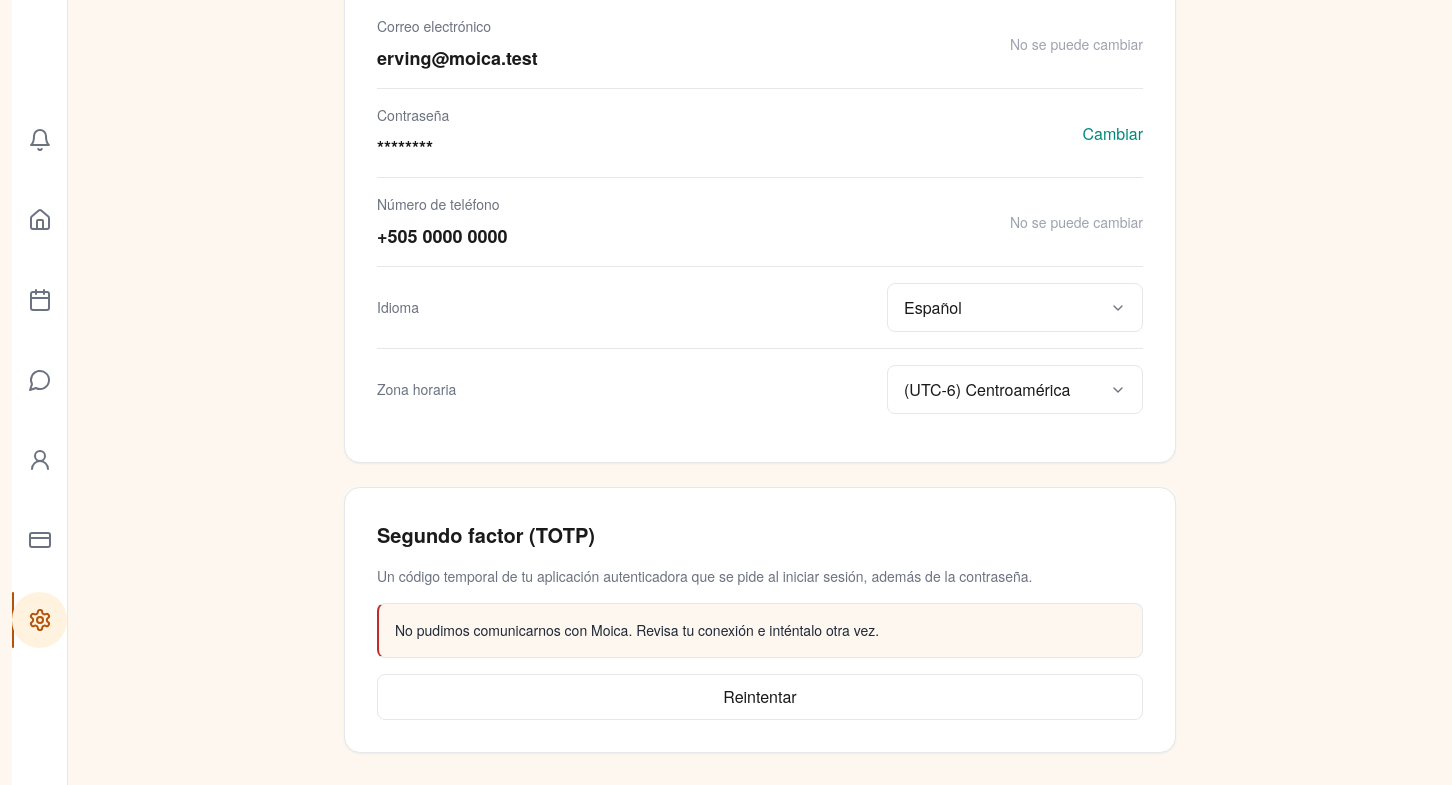
seguridad de la cuenta › segundo factor › permite reintentar cuando no se pudo consultar su estado
The width and height of the screenshot is (1452, 785).
(page scrolled)
Check: the message shows "No pudimos comunicarnos con Moica.", box [395,620,879,640]
Click the button "Reintentar" at (760, 697), box [377,674,1143,720]
(page scrolled)
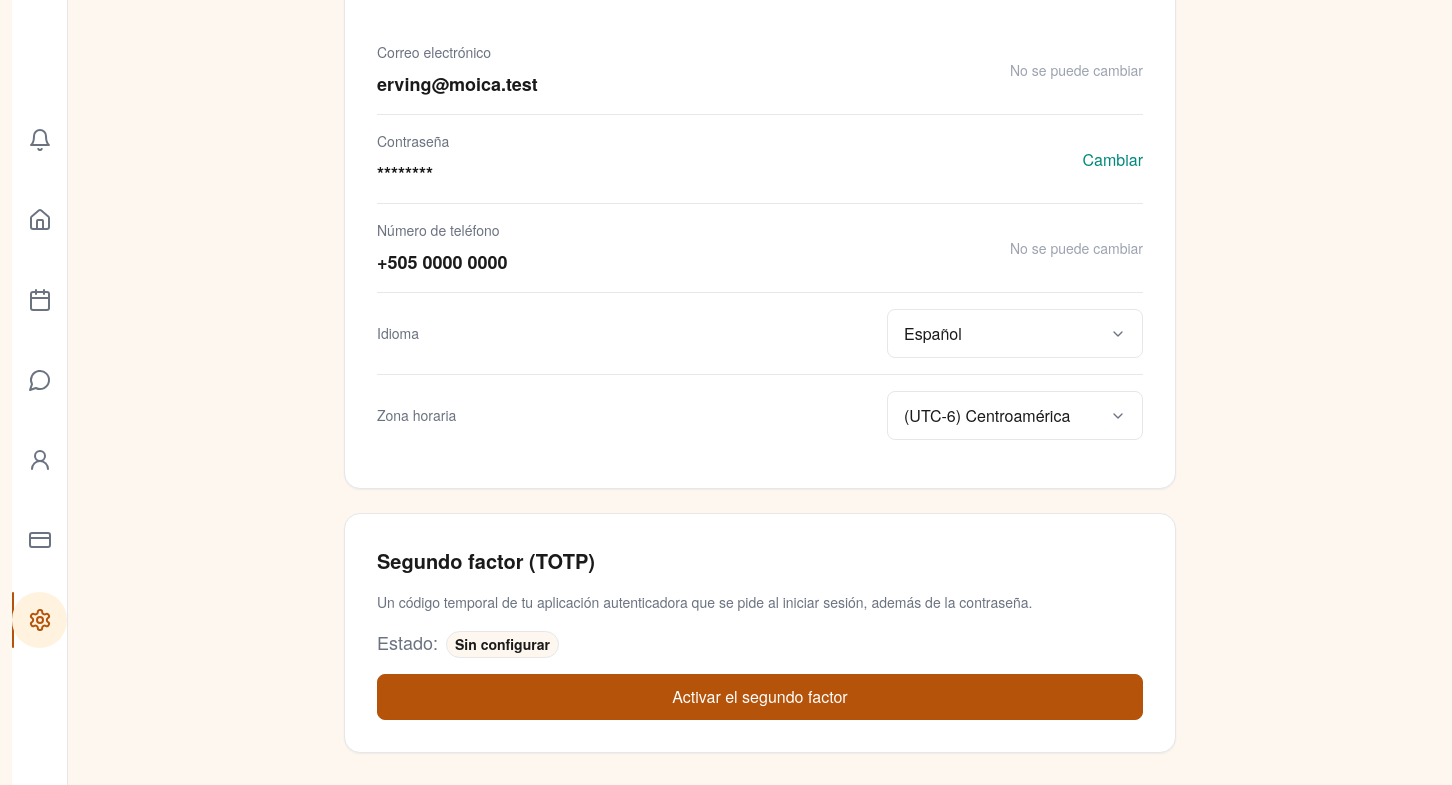
Check: the text "Sin configurar" is shown, box [446,631,559,658]
